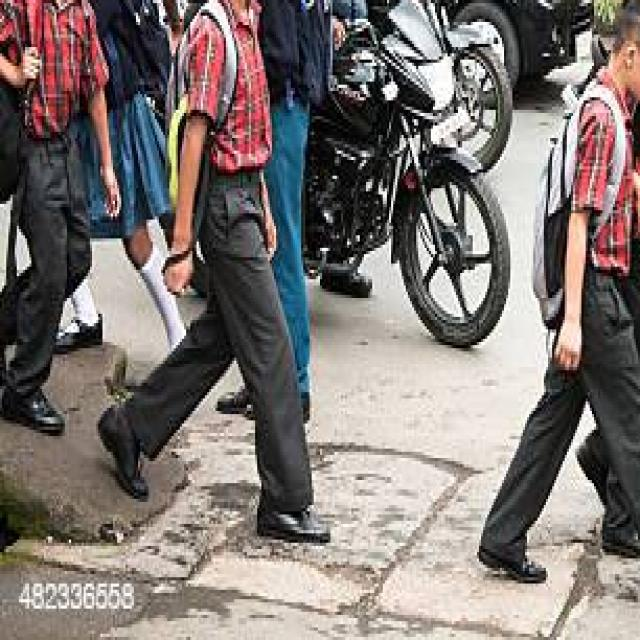bike: (278, 0, 512, 348)
